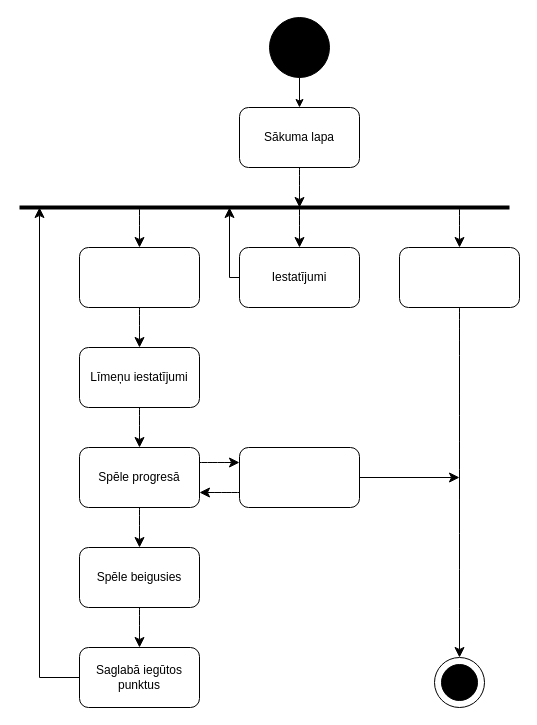
This 537x725 diagram has some shape labels left out. Each missing label, with the centre of its shape:
Iziet: [459,277]
Līmeņu izvēle: [139,277]
Pauze: [299,477]
